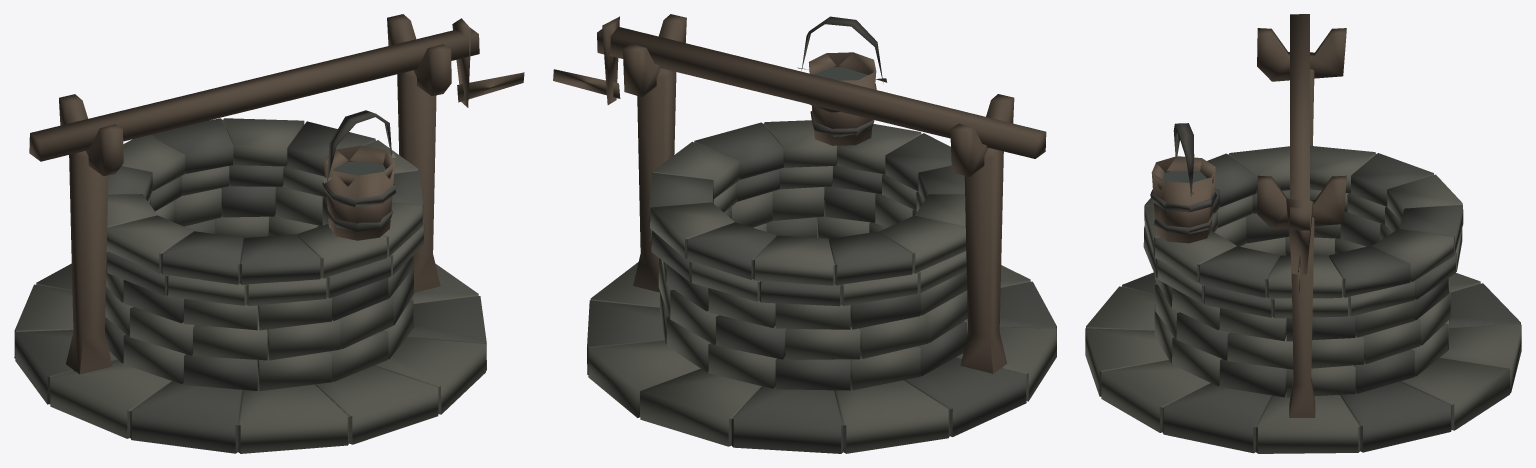
Rendered from farm_well_1.glb.
3 renders of one model, left to right at view 1: azimuth 30°, elevation 25°; view 2: azimuth 150°, elevation 25°; view 3: azimuth 270°, elevation 25°, orthographic. The views are drawn at different scales.
Visible parts, largest first — view 1: farm_well_1; view 2: farm_well_1; view 3: farm_well_1.
Part boxes in pixels (bbox=[...]): farm_well_1: bbox=[14, 14, 524, 453]; farm_well_1: bbox=[553, 14, 1056, 453]; farm_well_1: bbox=[1085, 14, 1521, 453].
Bounding box in the file's own units: 3.43 × 1.88 × 2.87.
1 material, 1 textured.
